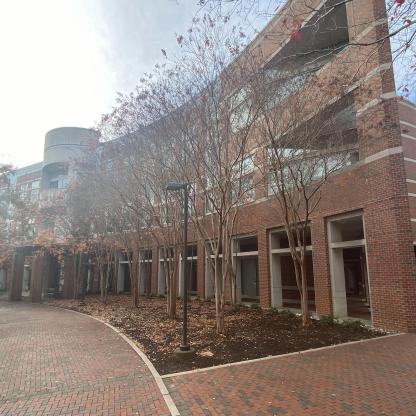EB-1: (18, 58, 403, 313)
